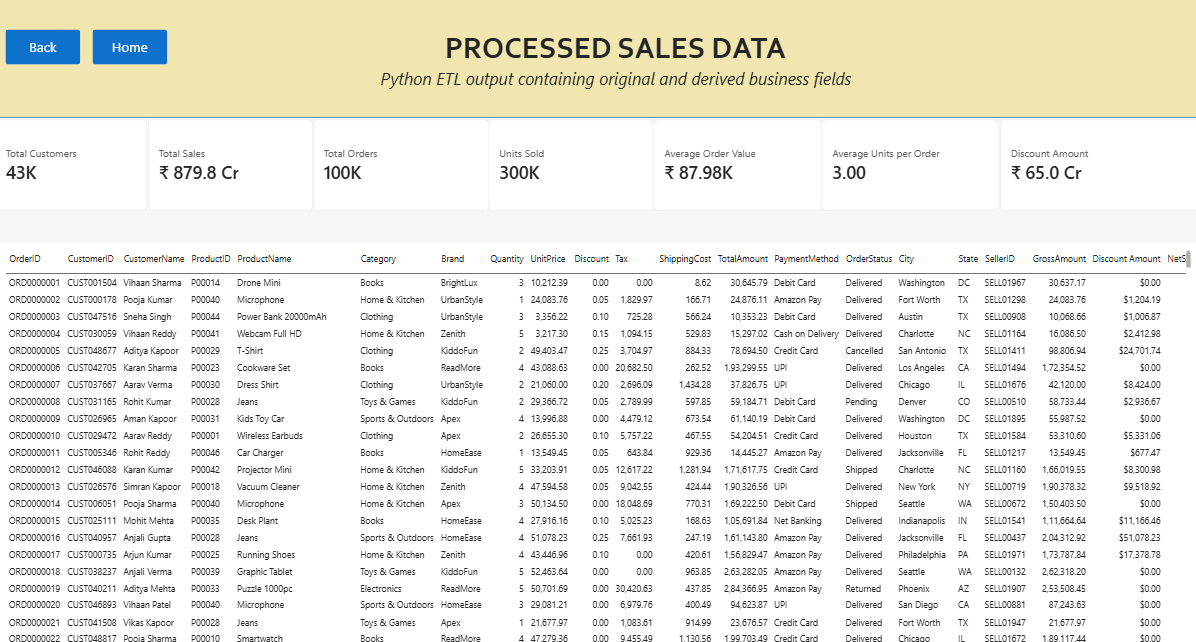

The page's visual inventory and layout, read from the dashboard file:
{"tool":"powerbi","page":{"name":"Processed Sales Data","canvas":[1920,1080],"ordinal":4},"visuals":[{"type":"shape","box":[0,0,1920.7,200.4],"z":0},{"type":"textbox","box":[715,60,585,60],"z":1000},{"type":"textbox","box":[612.5,120,790,80],"z":2000},{"type":"cardVisual","fields":{"Data":["Amazon_ETL_Processed.Total Sales Adaptive"]},"box":[242.5,202.5,262.5,145],"z":3000},{"type":"cardVisual","fields":{"Data":["Amazon_ETL_Processed.Total Orders"]},"box":[505,202.5,280,145],"z":4000},{"type":"cardVisual","fields":{"Data":["Amazon_ETL_Processed.Units Sold"]},"box":[785,202.5,262.5,145],"z":5000},{"type":"cardVisual","fields":{"Data":["Amazon_ETL_Processed.Average Order Value"]},"box":[1047.5,202.5,267.5,145],"z":6000},{"type":"cardVisual","fields":{"Data":["Amazon_ETL_Processed.Discount Amount Adaptive"]},"box":[1597.5,202.5,322.5,145],"z":7000},{"type":"cardVisual","fields":{"Data":["Amazon_ETL_Processed.Total Customers"]},"box":[0,202.5,242.5,145],"z":8000},{"type":"cardVisual","fields":{"Data":["Amazon_ETL_Processed.Average Units per Order"]},"box":[1315,202.5,282.5,145],"z":9000},{"type":"tableEx","fields":{"Values":["Amazon_ETL_Processed.OrderID","Amazon_ETL_Processed.CustomerID","Amazon_ETL_Processed.CustomerName","Amazon_ETL_Processed.ProductID","Amazon_ETL_Processed.ProductName","Amazon_ETL_Processed.Category","Amazon_ETL_Processed.Brand","Amazon_ETL_Processed.Quantity","Amazon_ETL_Processed.UnitPrice","Amazon_ETL_Processed.Discount","Amazon_ETL_Processed.Tax","Amazon_ETL_Processed.ShippingCost"]},"box":[0,395,1920,685],"z":10000},{"type":"actionButton","box":[17,60.7,119,55.9],"z":11000},{"type":"actionButton","box":[155.1,59.6,119,55.9],"z":12000}]}

Visuals, with their boxes on the page's 1920x1080 design canvas (x1, y1, x2, y2). These are canvas units, not pixel positions in the 1196x642 screenshot, which may show the page scaled, cropped or inside an application window:
shape: (0,0,1921,200)
textbox: (715,60,1300,120)
textbox: (612,120,1402,200)
cardVisual - Amazon_ETL_Processed.Total Sales Adaptive: (242,202,505,348)
cardVisual - Amazon_ETL_Processed.Total Orders: (505,202,785,348)
cardVisual - Amazon_ETL_Processed.Units Sold: (785,202,1048,348)
cardVisual - Amazon_ETL_Processed.Average Order Value: (1048,202,1315,348)
cardVisual - Amazon_ETL_Processed.Discount Amount Adaptive: (1598,202,1920,348)
cardVisual - Amazon_ETL_Processed.Total Customers: (0,202,242,348)
cardVisual - Amazon_ETL_Processed.Average Units per Order: (1315,202,1598,348)
tableEx - Amazon_ETL_Processed.OrderID x Amazon_ETL_Processed.CustomerID: (0,395,1920,1080)
actionButton: (17,61,136,117)
actionButton: (155,60,274,116)
